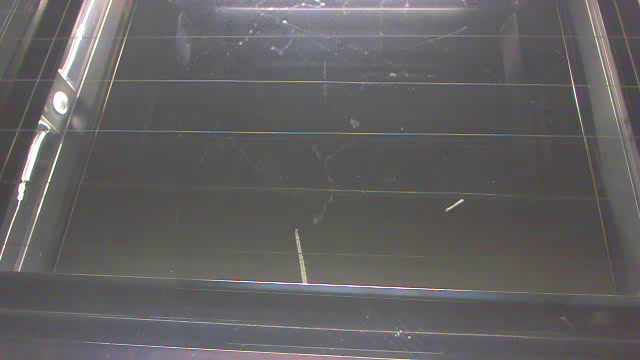alpha: (292, 228, 309, 285), (442, 196, 467, 215)
